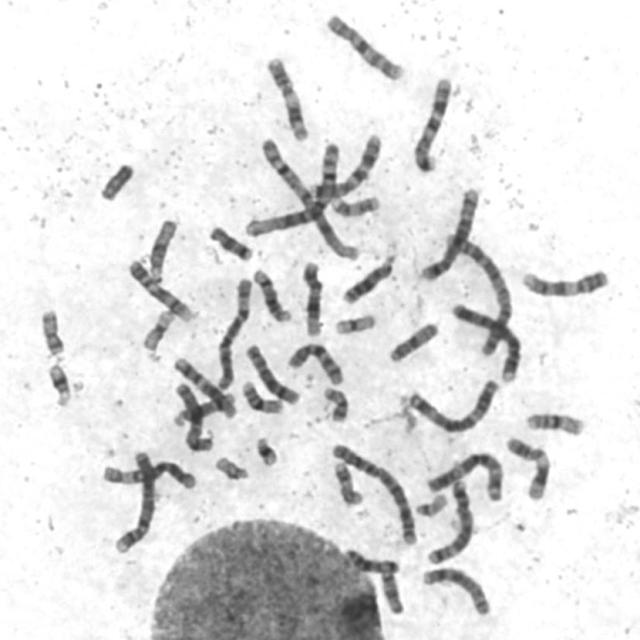A1: (256, 134, 362, 262), (239, 137, 342, 239)
A2: (438, 225, 515, 364), (327, 437, 420, 548)
A3: (402, 373, 502, 435), (420, 446, 507, 503)
B4: (446, 297, 524, 385), (108, 444, 159, 555)
B5: (415, 182, 483, 284), (422, 474, 476, 566)
C10: (320, 7, 408, 83), (283, 337, 347, 387)
C11: (260, 50, 310, 143), (500, 431, 553, 503)
C12: (167, 351, 239, 420), (297, 256, 326, 338)
C6: (210, 272, 254, 390), (96, 455, 200, 491)
C7: (306, 128, 384, 200), (408, 71, 455, 174)
C8: (417, 561, 494, 618), (241, 338, 302, 407)
C9: (122, 253, 196, 323), (516, 261, 612, 300)
D13: (337, 248, 399, 306), (168, 386, 238, 429)
D14: (248, 263, 294, 324), (340, 544, 400, 574)
D15: (383, 317, 441, 365), (144, 212, 180, 282)
E16: (521, 406, 588, 437), (237, 374, 286, 416)
E17: (328, 456, 366, 508), (324, 189, 382, 219)
E18: (203, 219, 254, 263), (377, 568, 403, 616)
F19: (136, 303, 176, 352), (330, 308, 379, 337)
F20: (35, 302, 68, 359), (318, 382, 351, 424)
G21: (42, 356, 74, 408), (250, 431, 280, 468)
G22: (210, 452, 251, 482), (411, 488, 450, 518)
X: (170, 377, 215, 454)
Y: (94, 156, 137, 203)
